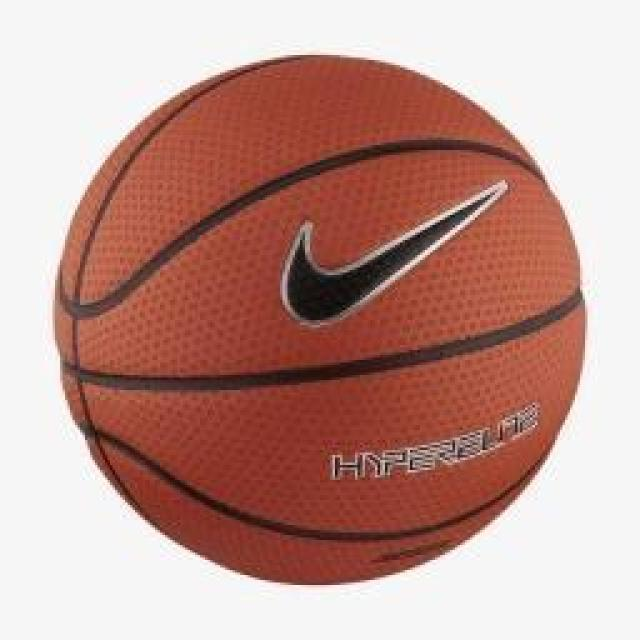ball: (35, 42, 595, 598)
